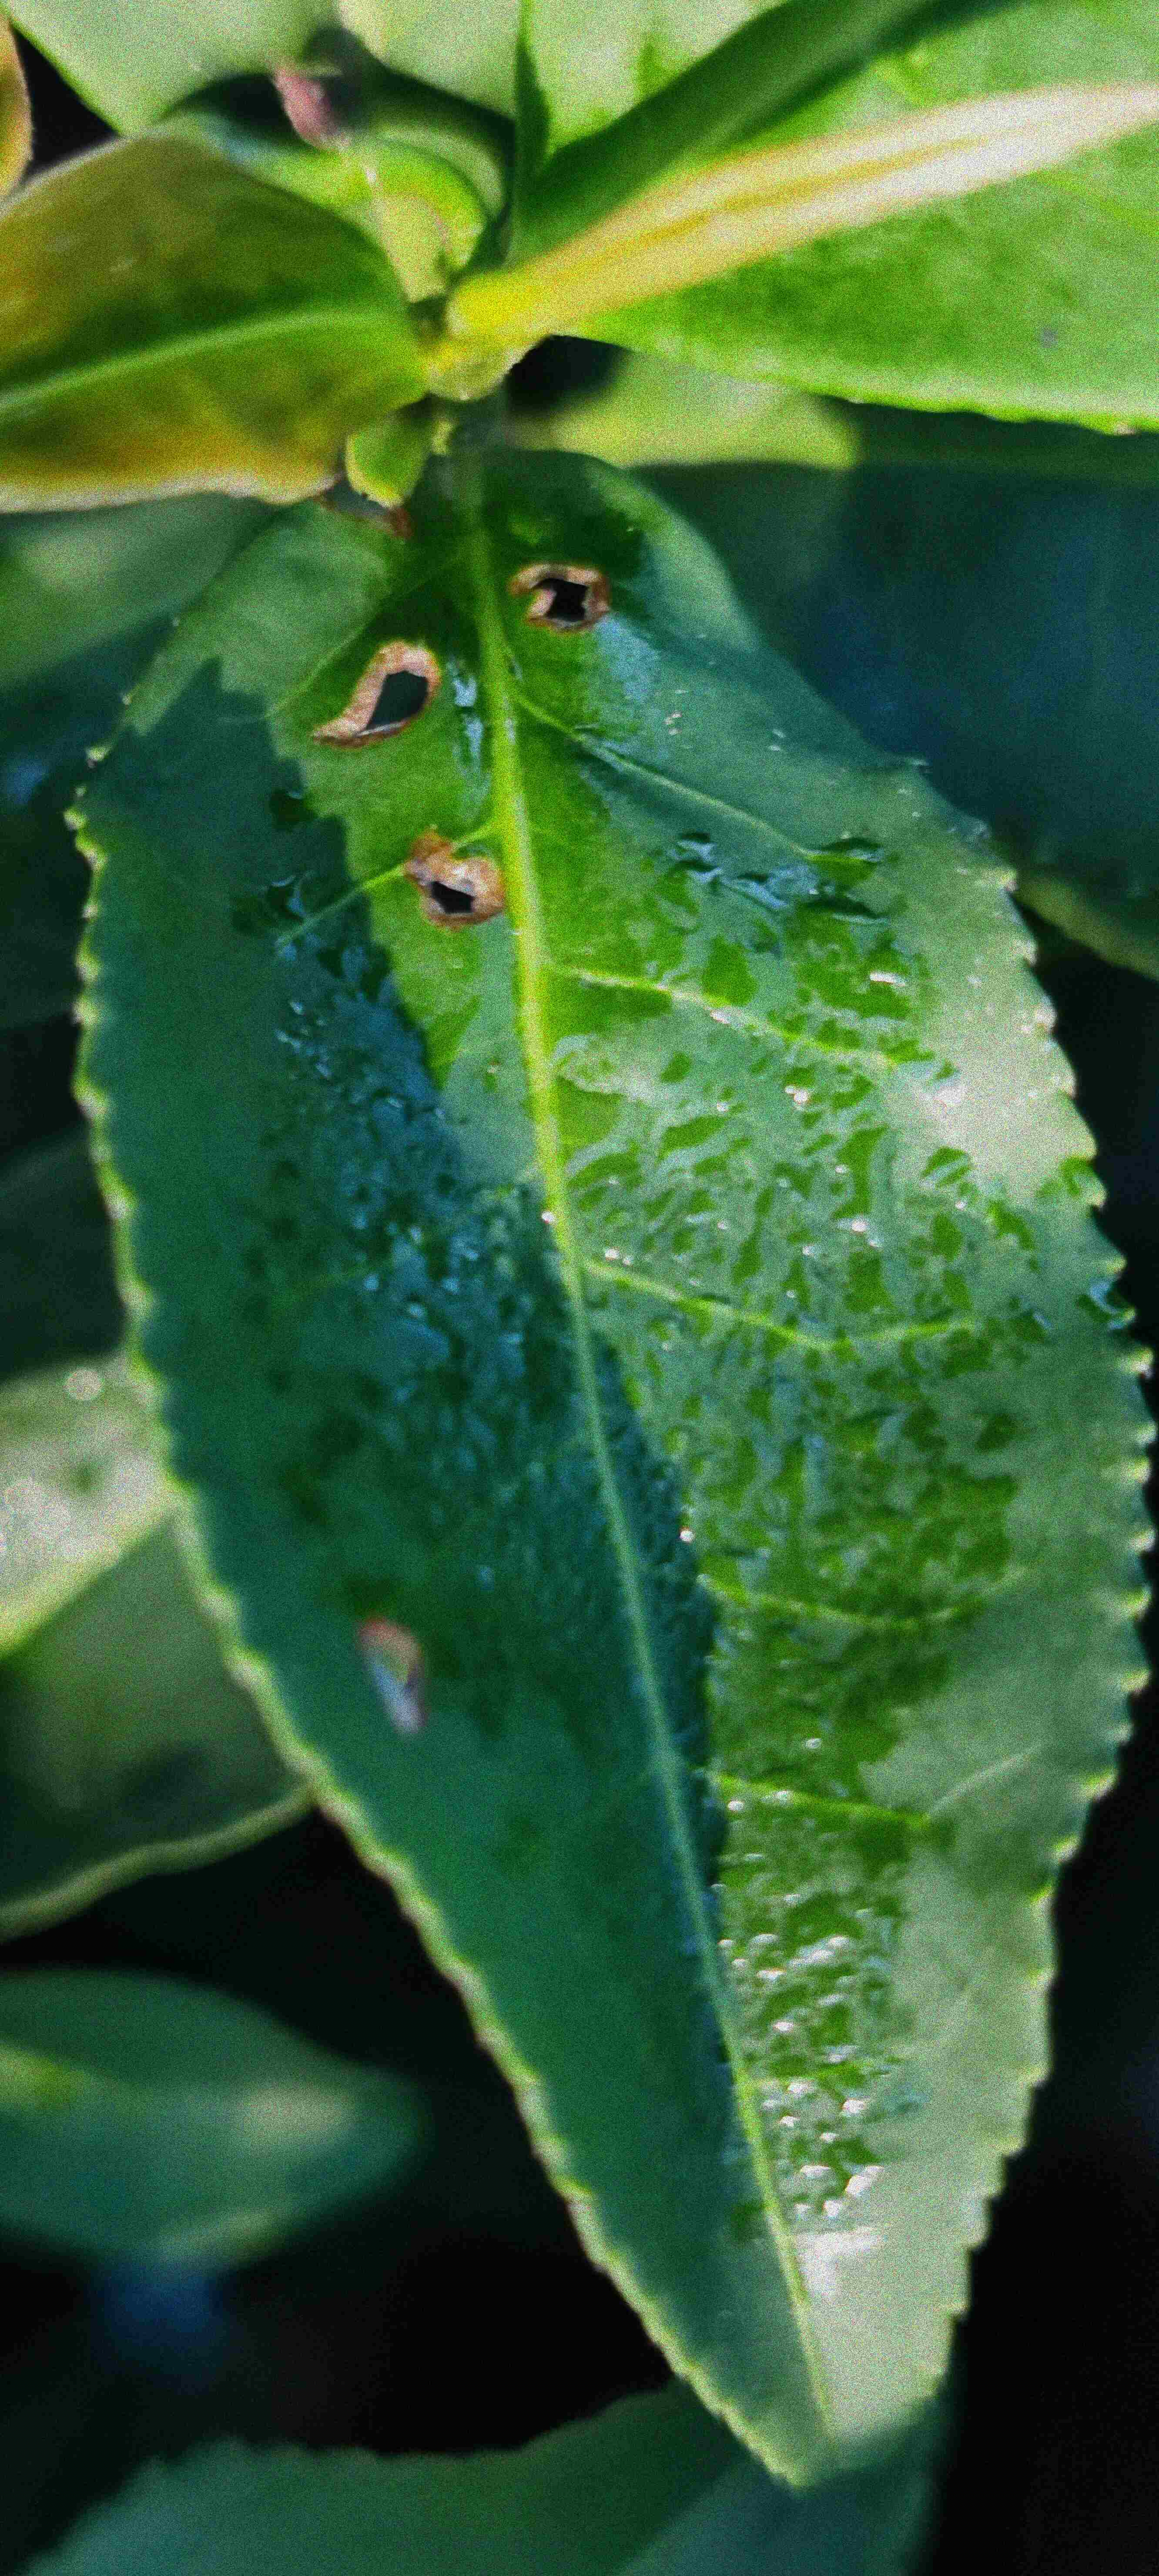chihuo_high: (69, 448, 1154, 2491)
